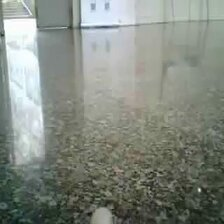w: (89, 206, 114, 224)
